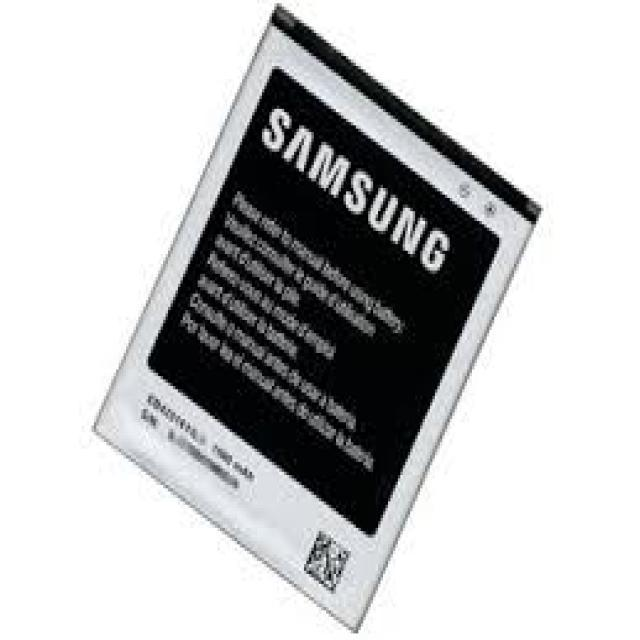Battery: (81, 0, 550, 637)
